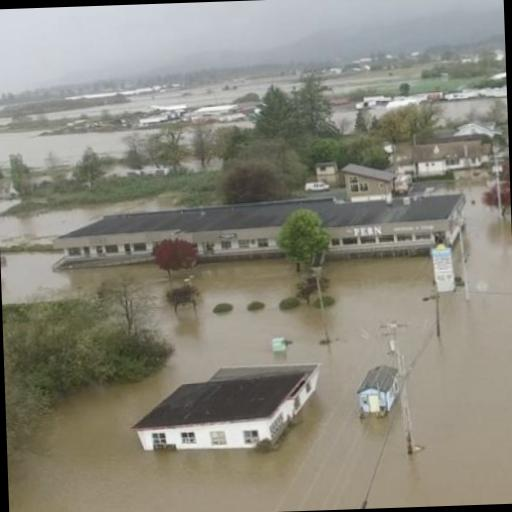flood: (0, 188, 512, 512), (0, 193, 178, 245), (47, 82, 271, 119), (0, 131, 133, 174)
house: (66, 198, 470, 273), (134, 360, 321, 462), (342, 162, 398, 198), (412, 142, 447, 178)
